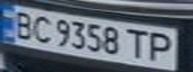3: (66, 19, 87, 52)
5: (84, 21, 106, 54)
8: (100, 24, 124, 56)
9: (48, 16, 72, 48)
B: (6, 8, 39, 39)
C: (27, 14, 57, 44)
P: (145, 30, 181, 64)
T: (124, 26, 151, 61)
